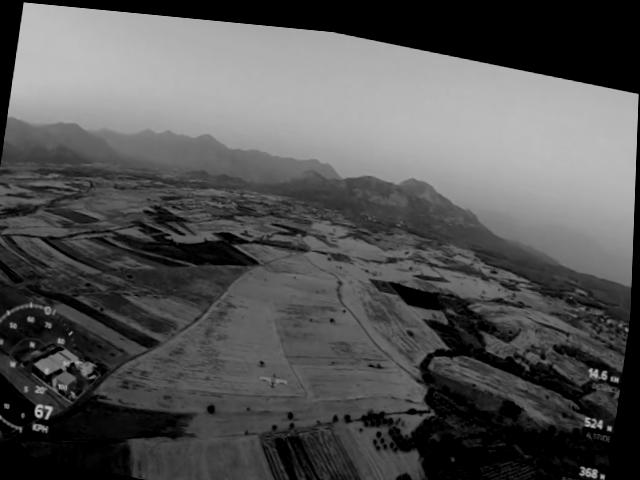hedef: (251, 358, 299, 394)
